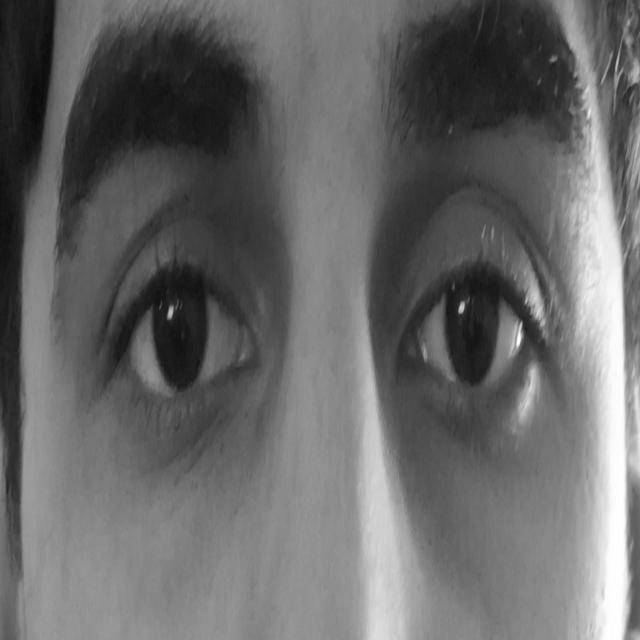real: (60, 44, 602, 568)
